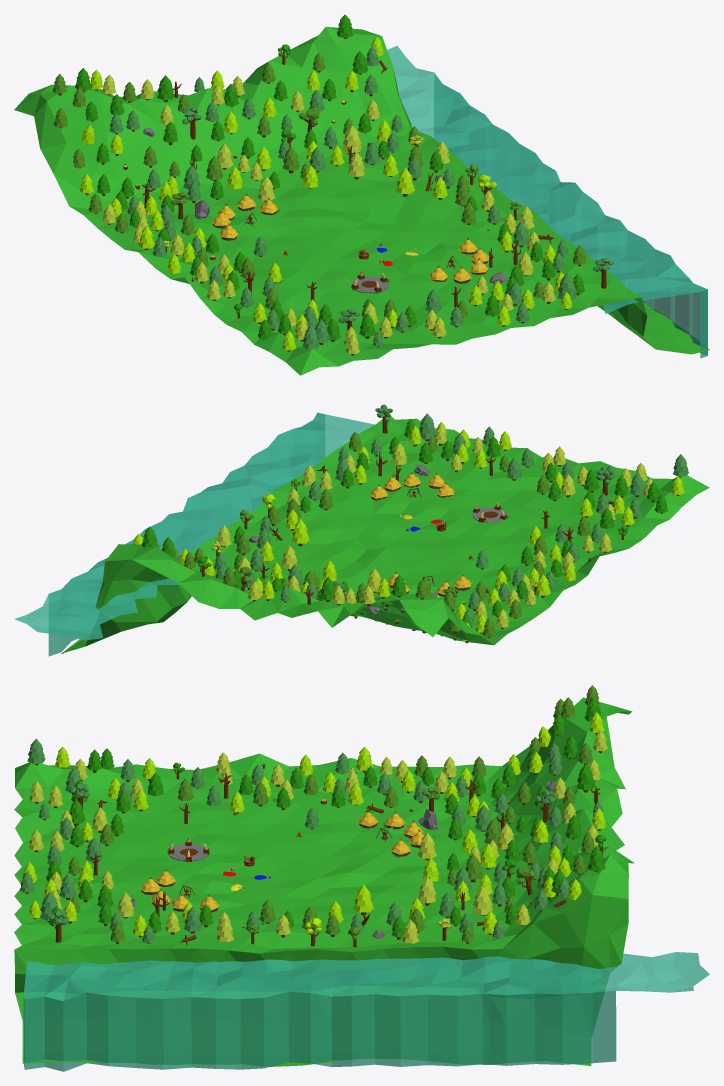
File: BattleSceneNoShop_0512.FBX
3 renders of one model, top to bottom at view 1: azimuth 30°, elevation 25°; view 2: azimuth 150°, elevation 25°; view 3: azimuth 270°, elevation 25°, orthographic. The views are drawn at different scales.
Visible parts, largest first — view 1: Object004, river, Cylinder018; view 2: Object004, river, Cylinder018; view 3: Object004, river, Cylinder018.
Boxes of the visible parts, bbox=[...] form: Object004: bbox=[14, 27, 709, 375]; river: bbox=[387, 45, 707, 358]; Cylinder018: bbox=[350, 271, 388, 293]; Object004: bbox=[61, 416, 709, 653]; river: bbox=[14, 412, 374, 656]; Cylinder018: bbox=[472, 502, 507, 522]; Object004: bbox=[14, 697, 634, 1066]; river: bbox=[23, 952, 709, 1071]; Cylinder018: bbox=[168, 837, 209, 861].
Bounding box in the file's own units: 220 × 89.75 × 296.
